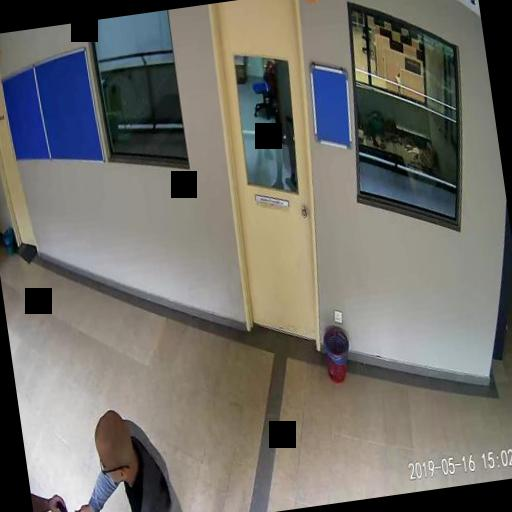Handgun: (55, 496, 87, 512)
